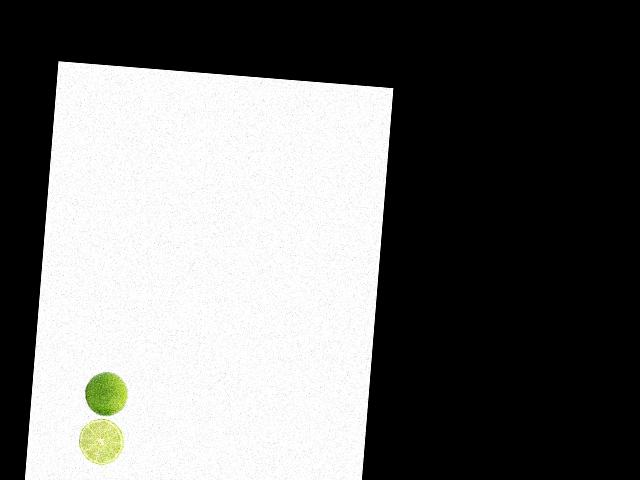lemon: (81, 370, 128, 417)
